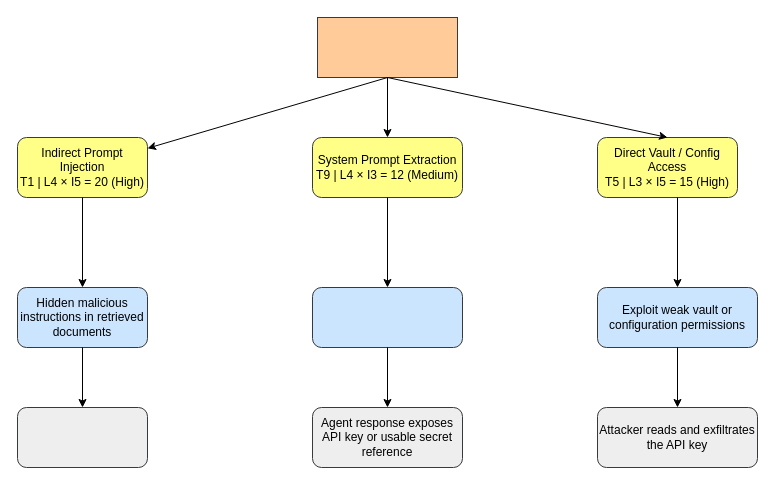
Some shapes in this 775 by 485 pixel diagram are drawn without their labels. The centre of each missing label's shape, as x and y in pixels:
"Agent sends exposed API key to attacker" belongs at (82,437).
"STEAL THE LLM API KEY" belongs at (387,47).
"Trick agent into revealing hidden system instructions" belongs at (387,317).
